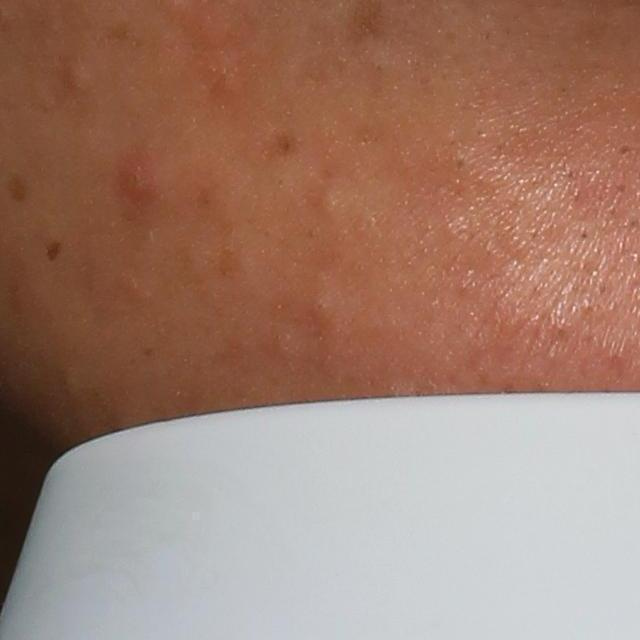comedo: (308, 184, 349, 226), (62, 63, 96, 96)
